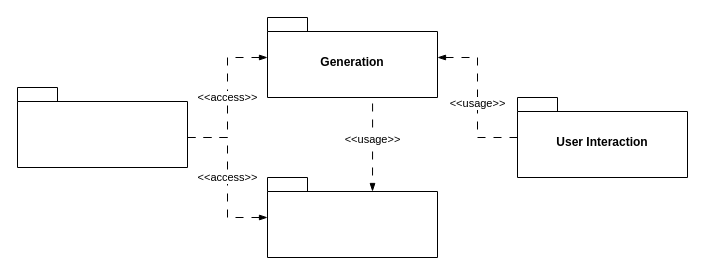
This 705x275 diagram has some shape labels left out. The centre of each missing label's shape, as x and y in pixels:
"Evaluation" belongs at [102,127].
"Retrieval" belongs at [352,217].
